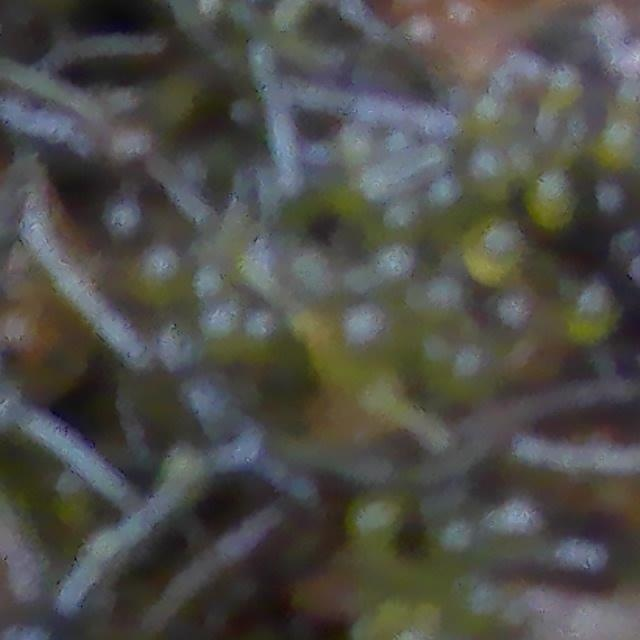SeaGrape: (463, 221, 526, 285), (529, 172, 585, 229), (132, 245, 193, 296), (590, 176, 640, 234)
